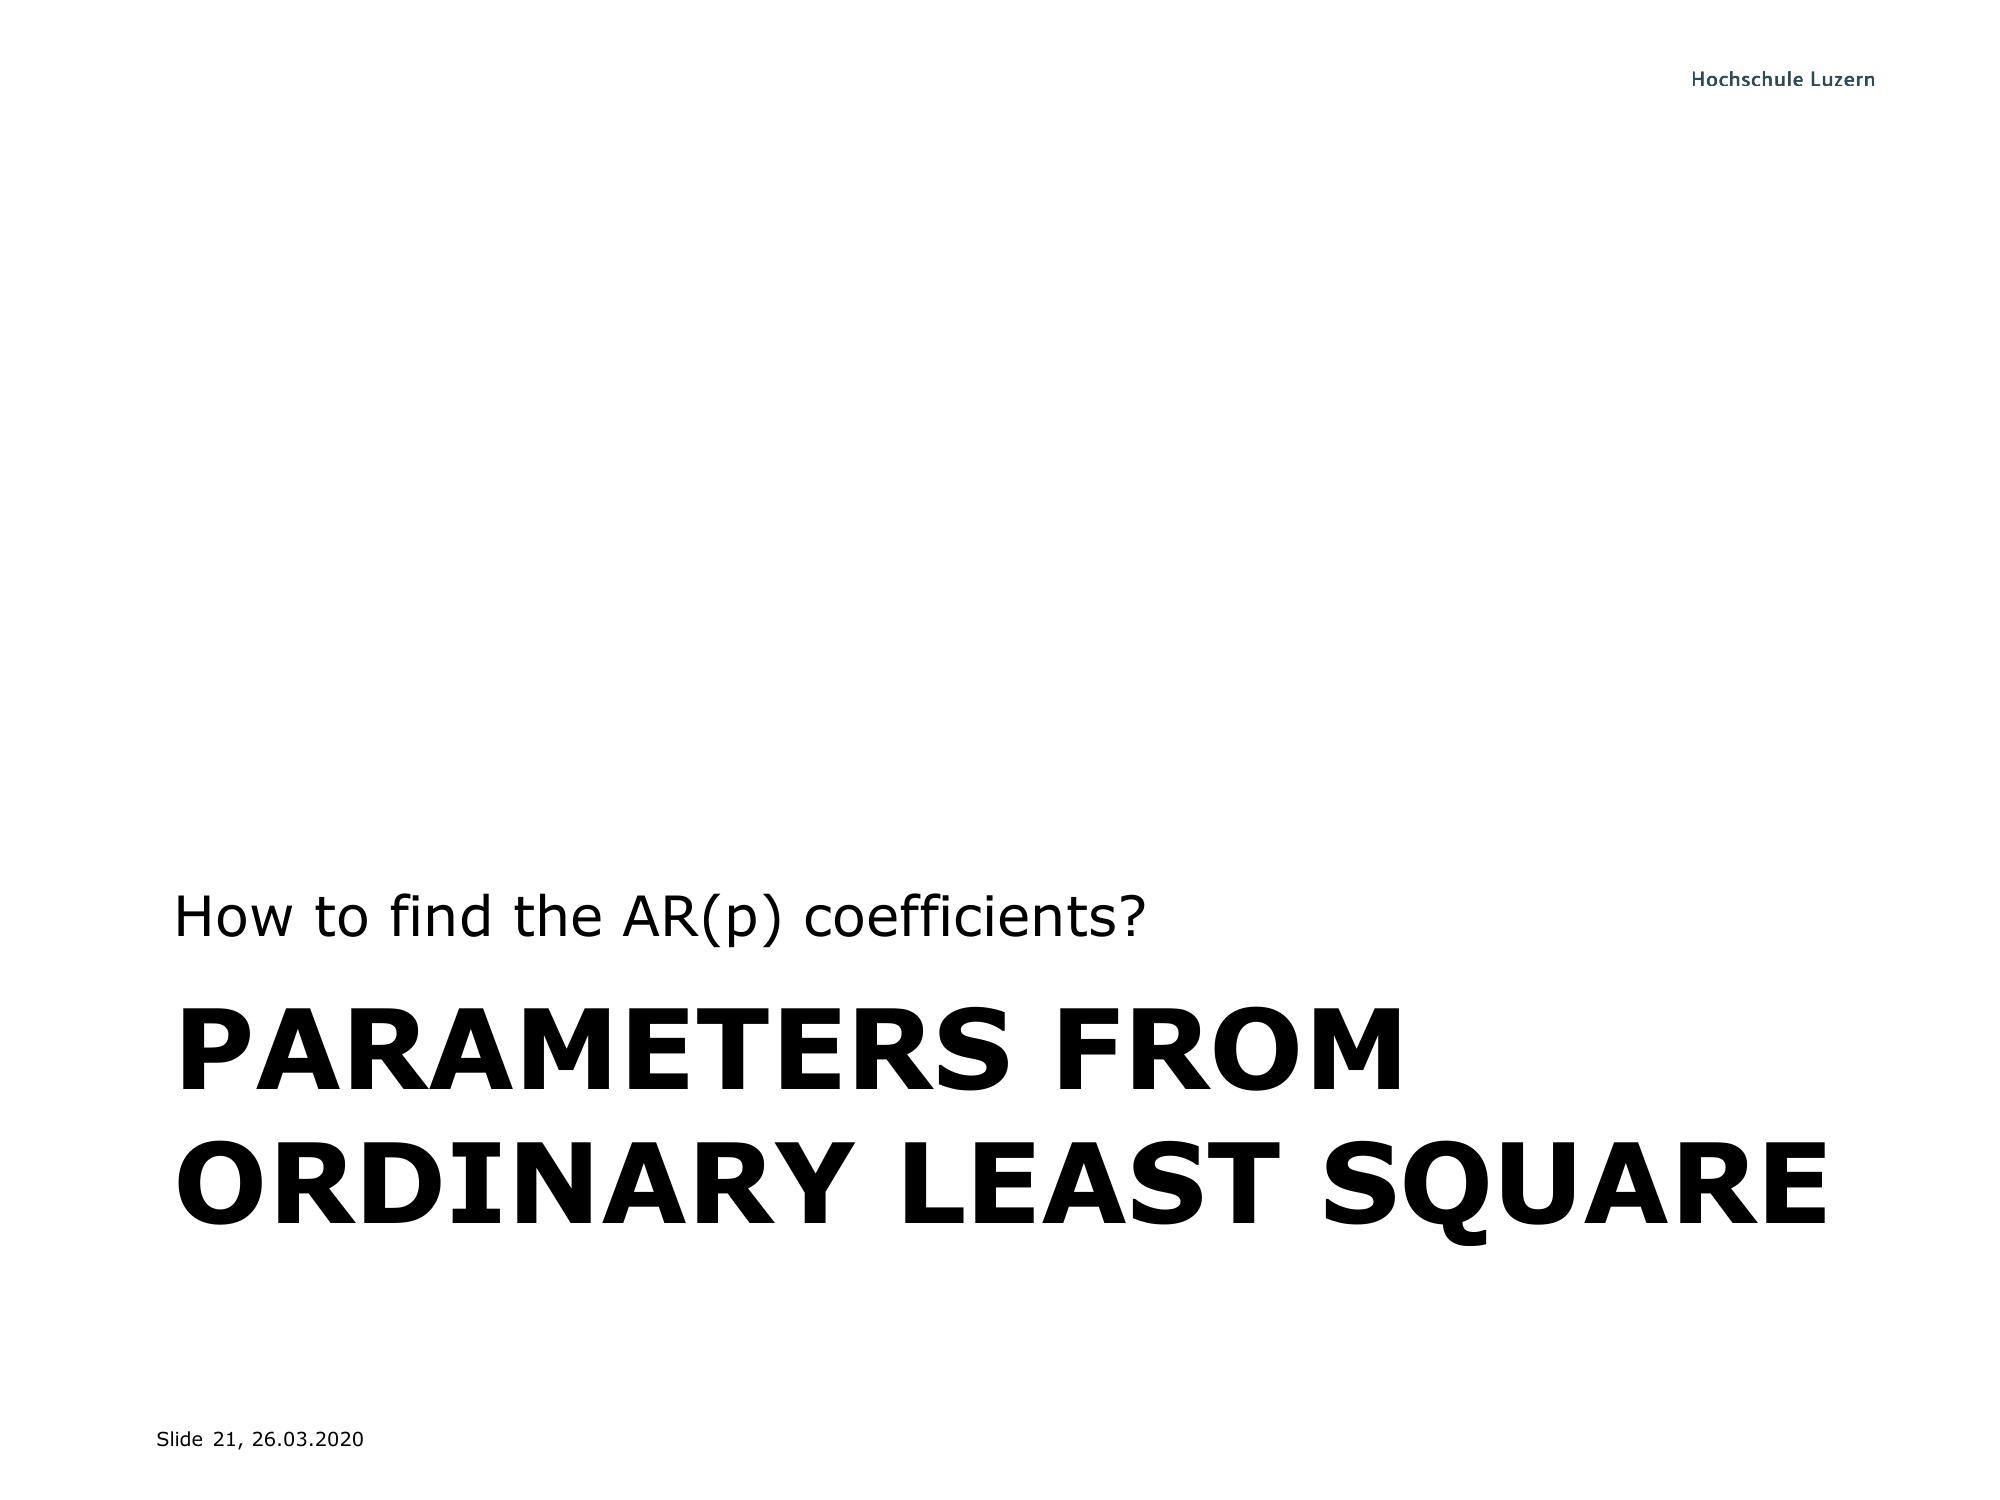Title: (143, 988, 1847, 1257)
